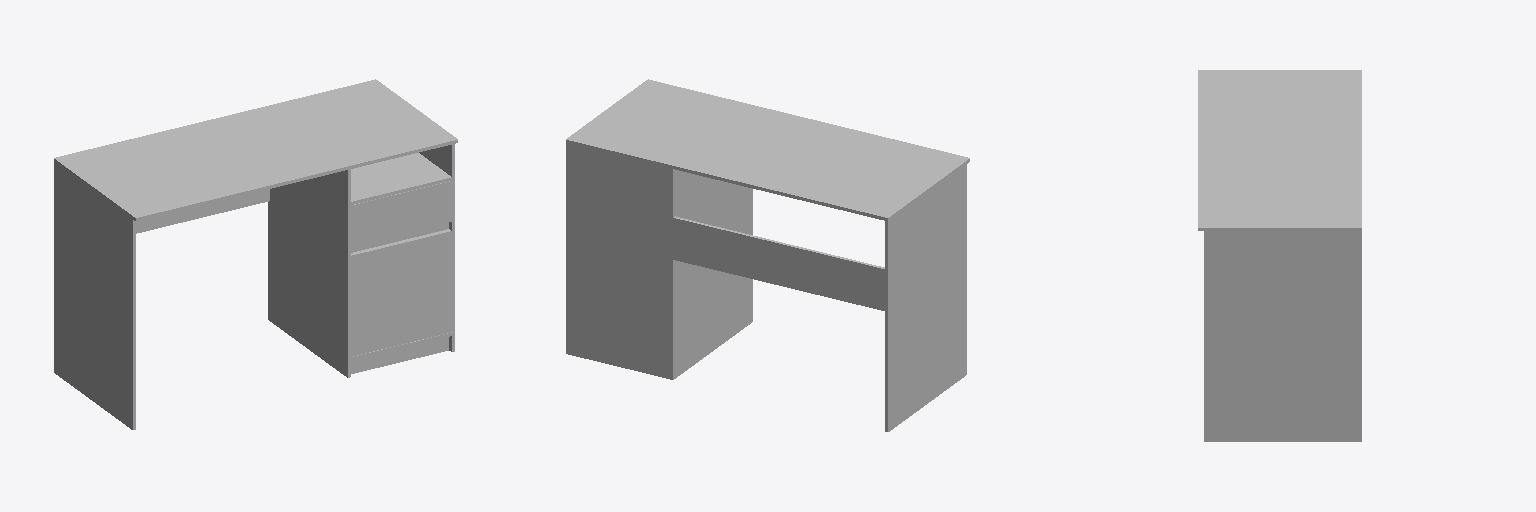
Rendered from BILLUND.obj.
The picture shows the model from 3 angles: view 1: azimuth 30°, elevation 25°; view 2: azimuth 150°, elevation 25°; view 3: azimuth 270°, elevation 25°; orthographic projection.
Parts seen in each view (by area): view 1: Cube.008_Cube.009, Cube.009_Cube.010; view 2: Cube.008_Cube.009; view 3: Cube.008_Cube.009.
Part boxes in pixels (x1,y1,x2,y2): Cube.008_Cube.009: (54, 79, 457, 429); Cube.009_Cube.010: (351, 181, 451, 356); Cube.008_Cube.009: (566, 79, 969, 431); Cube.008_Cube.009: (1198, 70, 1361, 441).
Bounding box in the file's own units: 2.4 × 1.52 × 1.06.